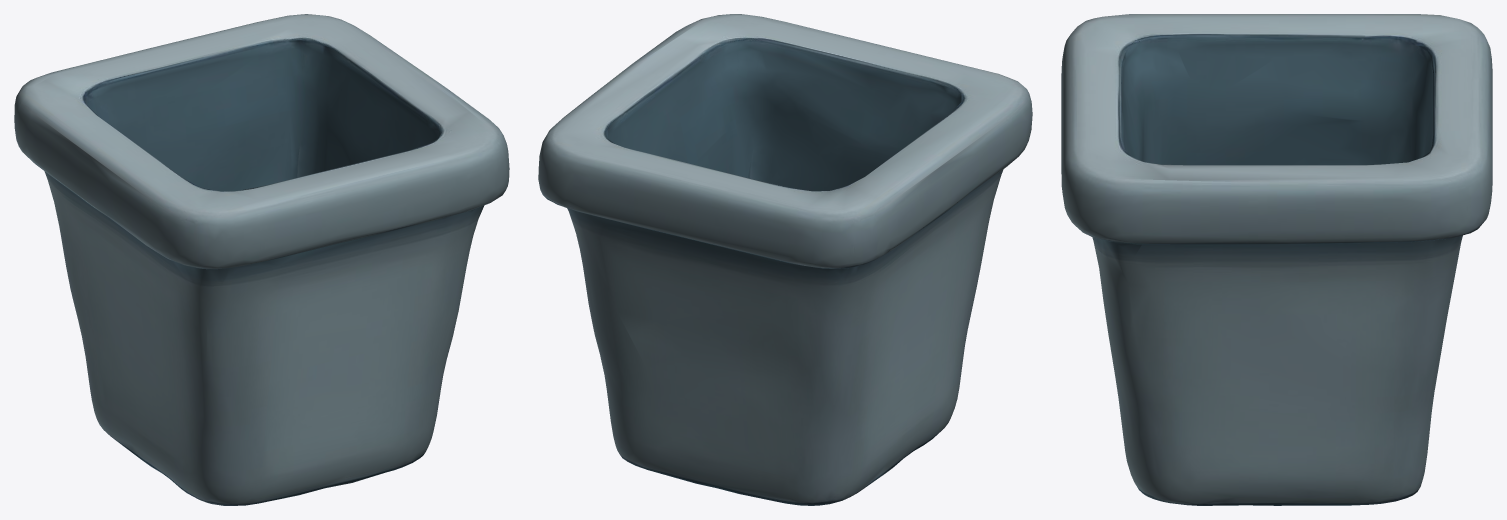
The picture shows the model from 3 angles, left to right: view 1: azimuth 30°, elevation 25°; view 2: azimuth 150°, elevation 25°; view 3: azimuth 270°, elevation 25°; orthographic projection. The views are drawn at different scales.
Visible parts, largest first — view 1: node_0; view 2: node_0; view 3: node_0.
Boxes of the visible parts, x1,y1,x2,y2 form: node_0: [14, 14, 509, 505]; node_0: [538, 14, 1032, 505]; node_0: [1061, 14, 1492, 505].
Size of the model in its own units: 0.9664 by 0.8758 by 0.9732.
Materials: 1 (1 with a texture image).
